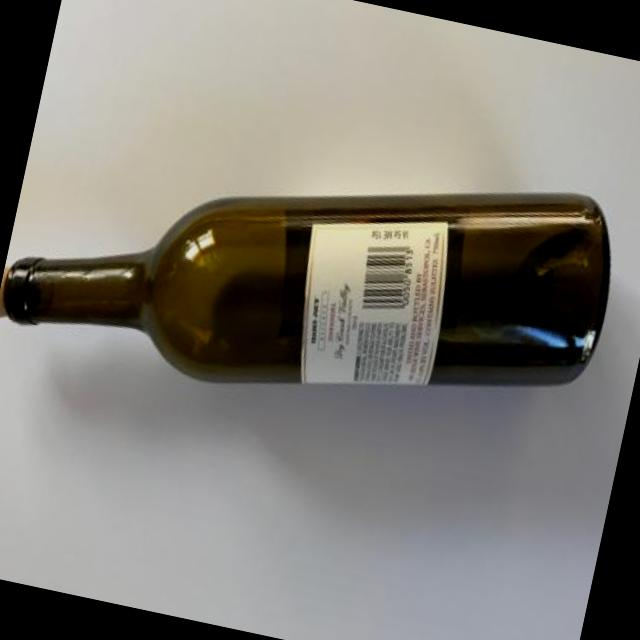chai_thuy_tinh: (0, 194, 610, 387)
